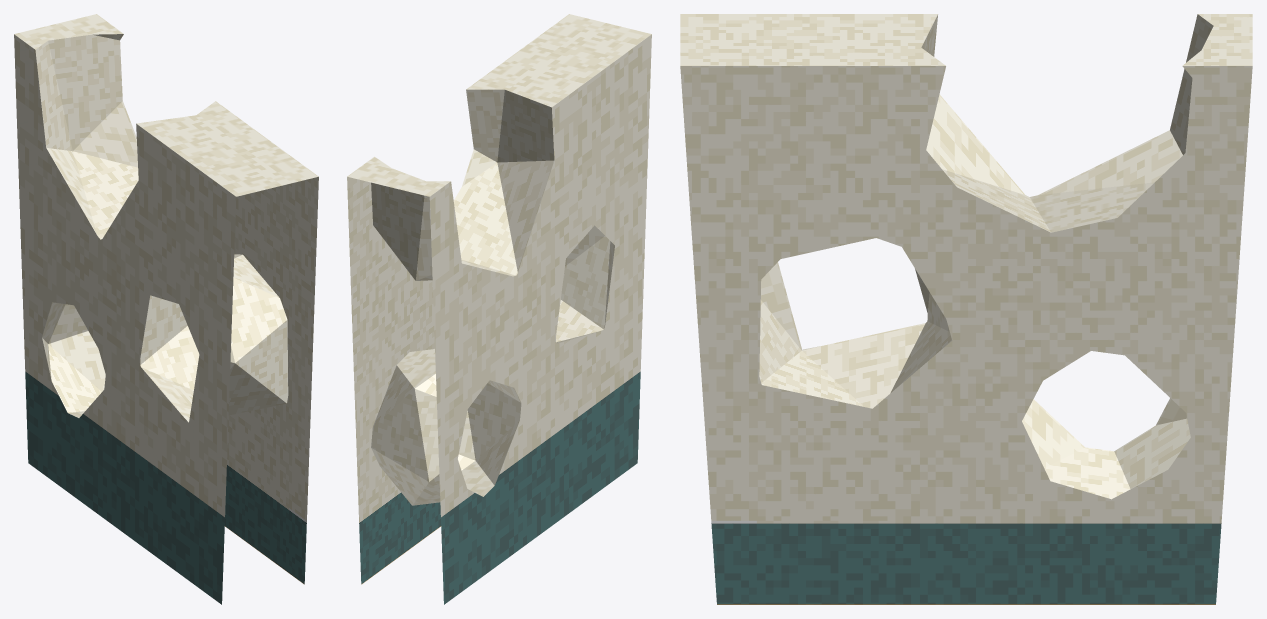
The model's file is murallarotagreciaver2.fbx.
3 renders of one model, left to right at view 1: azimuth 30°, elevation 25°; view 2: azimuth 150°, elevation 25°; view 3: azimuth 270°, elevation 25°, orthographic. The views are drawn at different scales.
Visible parts, largest first — view 1: MurallaRota; view 2: MurallaRota; view 3: MurallaRota.
Boxes of the visible parts, x1=… form: MurallaRota: x1=14, y1=14, x2=318, y2=604; MurallaRota: x1=347, y1=14, x2=651, y2=604; MurallaRota: x1=680, y1=14, x2=1252, y2=604.
Bounding box in the file's own units: 1.24 × 5.78 × 6.
1 material, 1 textured.
